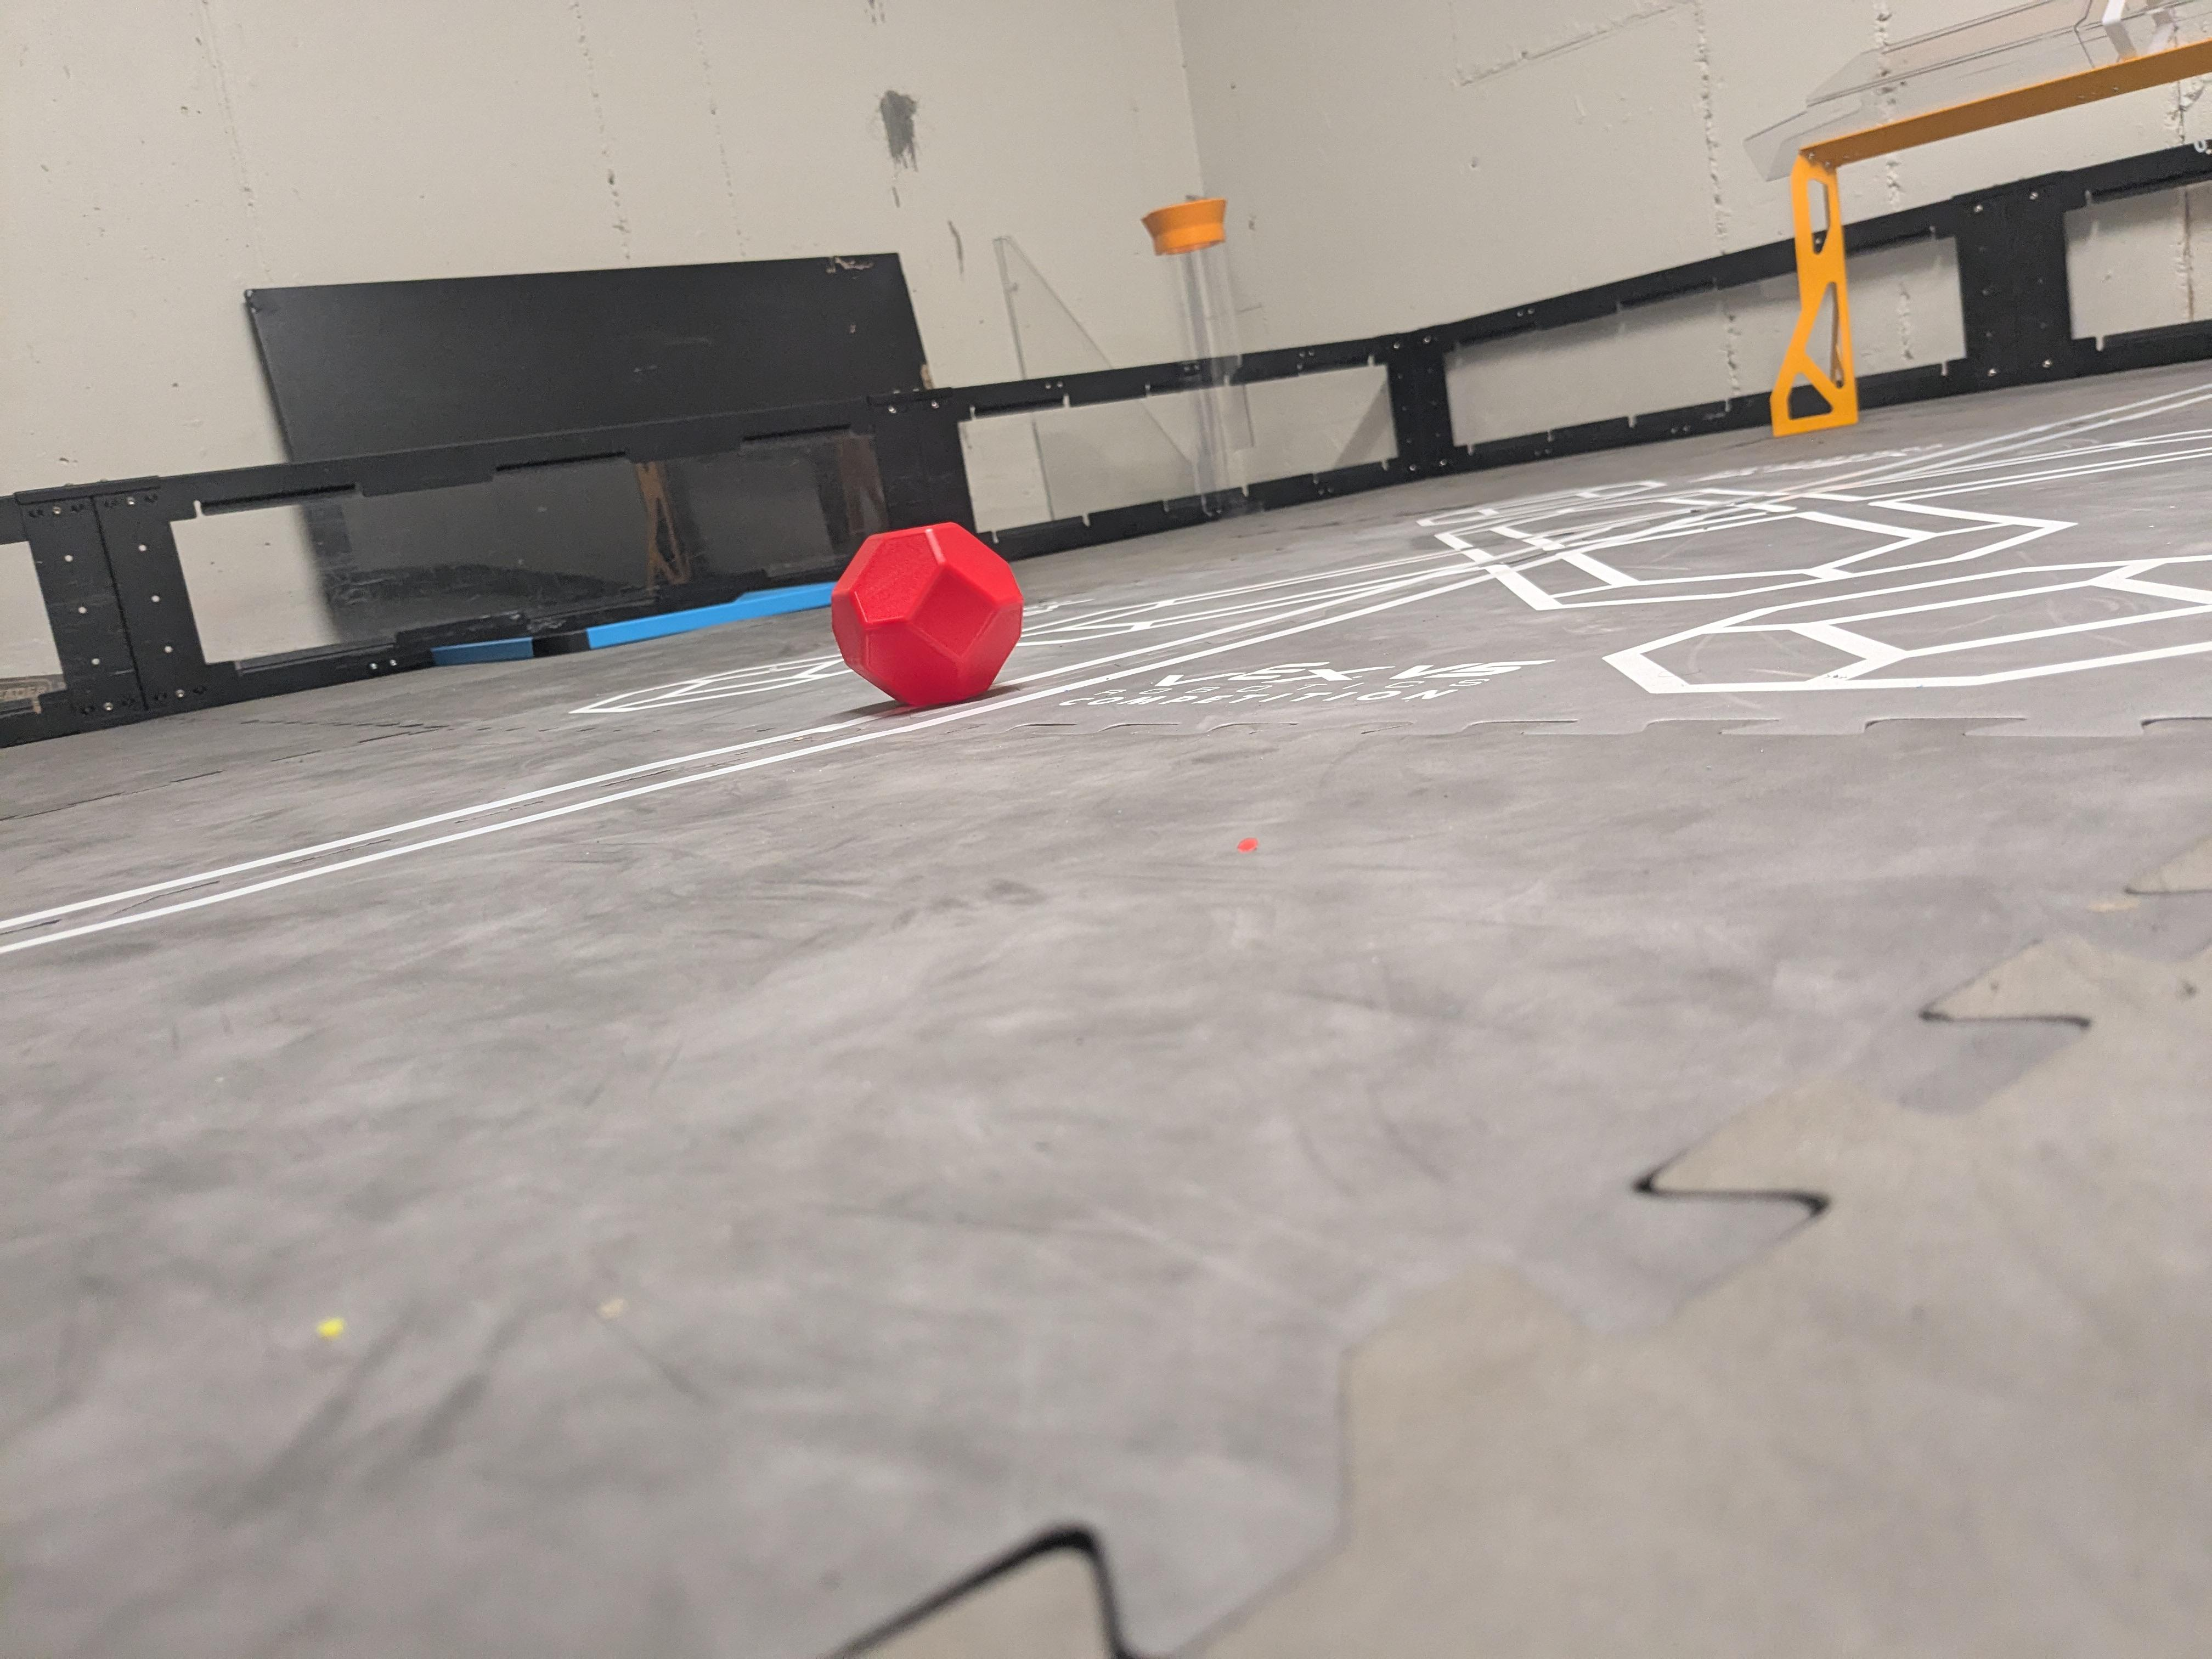Vex-Pieces-RED: (829, 523, 1022, 704)
